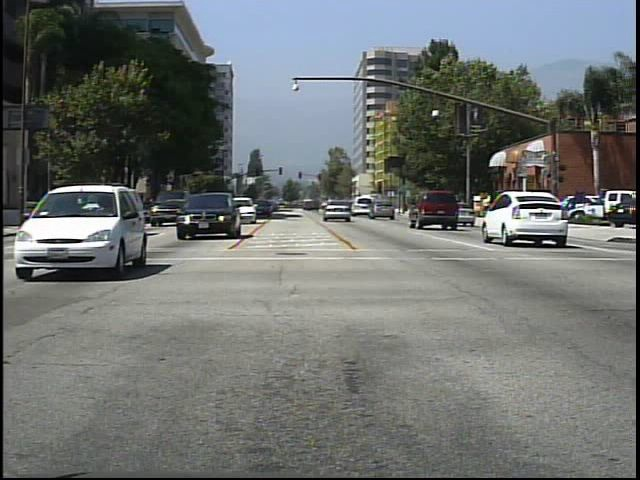person: (439, 192, 457, 226), (477, 190, 495, 220)
